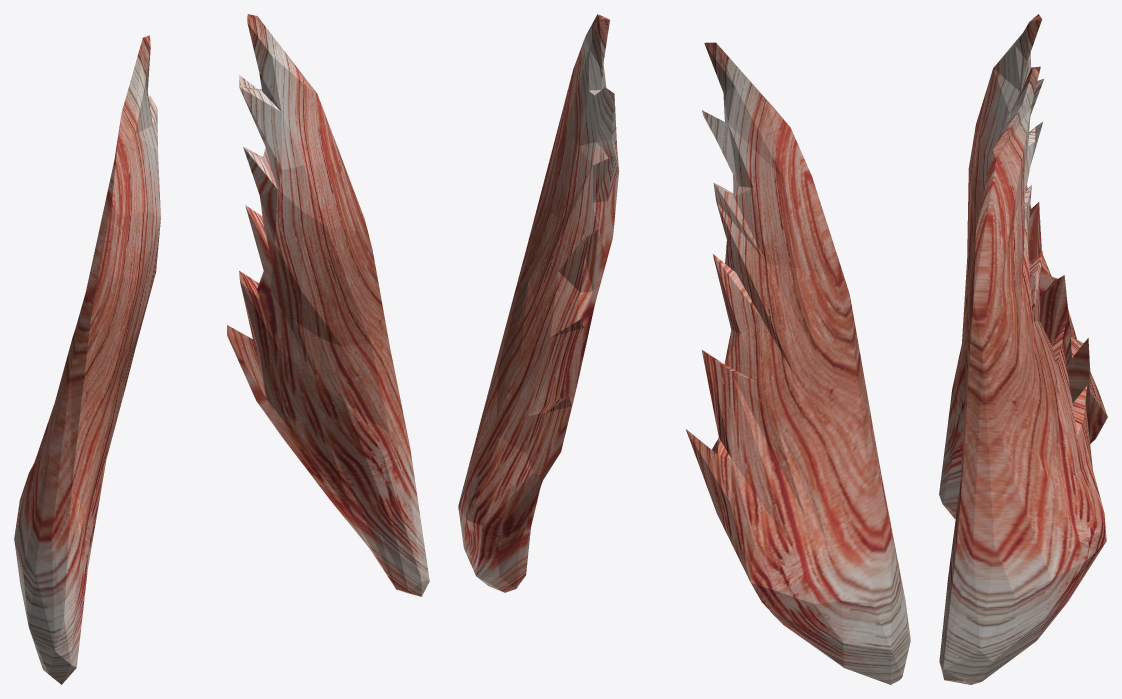
The model's file is Splenius_Medius.obj.
3 renders of one model, left to right at view 1: azimuth 30°, elevation 25°; view 2: azimuth 150°, elevation 25°; view 3: azimuth 270°, elevation 25°, orthographic. The views are drawn at different scales.
Parts seen in each view (by area): view 1: Musculos_Cabeza_1:Scalenus_Medius1; view 2: Musculos_Cabeza_1:Scalenus_Medius1; view 3: Musculos_Cabeza_1:Scalenus_Medius1.
Boxes of the visible parts, x1,y1,x2,y2 form: Musculos_Cabeza_1:Scalenus_Medius1: [14, 14, 429, 684]; Musculos_Cabeza_1:Scalenus_Medius1: [458, 14, 910, 684]; Musculos_Cabeza_1:Scalenus_Medius1: [939, 14, 1107, 684].
Bounding box in the file's own units: 0.4011 × 0.5859 × 0.1591.
1 material, 1 textured.
